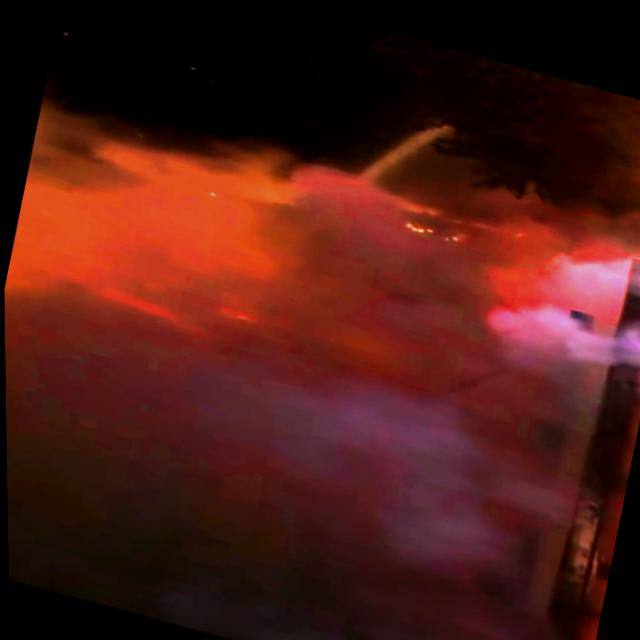smoke: (1, 111, 614, 485), (4, 316, 547, 640)
